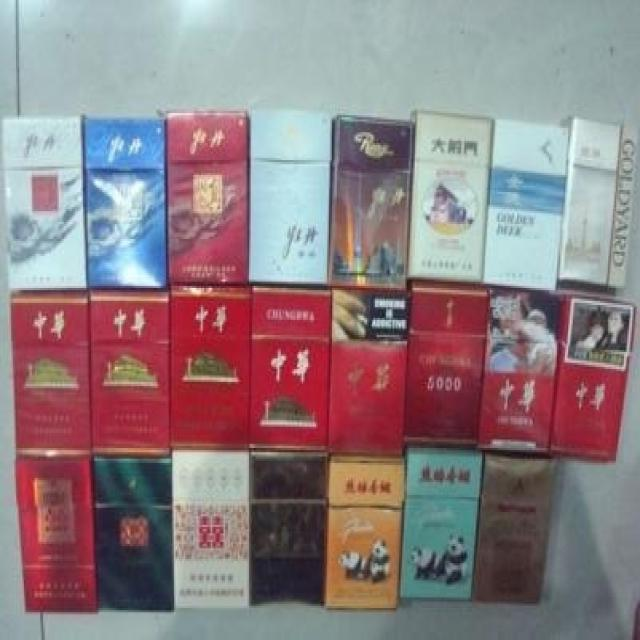box: (480, 119, 570, 292), (549, 288, 637, 463), (329, 113, 415, 292), (81, 115, 168, 290), (247, 111, 334, 286), (407, 111, 493, 286), (2, 115, 86, 290), (404, 279, 490, 448), (166, 111, 249, 284), (247, 284, 332, 450), (88, 290, 171, 459), (327, 286, 409, 457), (168, 284, 252, 450), (479, 288, 563, 454), (10, 290, 91, 459), (472, 450, 559, 606), (399, 446, 484, 602), (324, 450, 405, 610), (14, 457, 97, 612), (171, 448, 251, 608), (91, 459, 174, 612), (249, 450, 327, 606), (557, 117, 621, 286), (606, 128, 638, 290)
